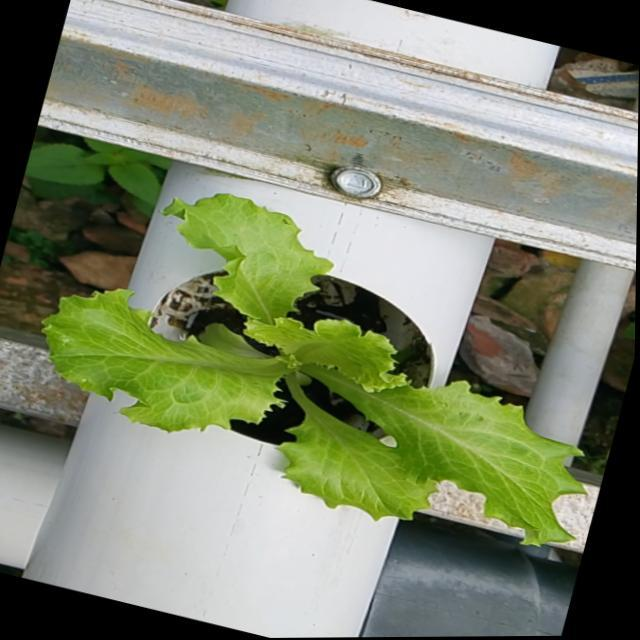Baby: (41, 193, 583, 545)
